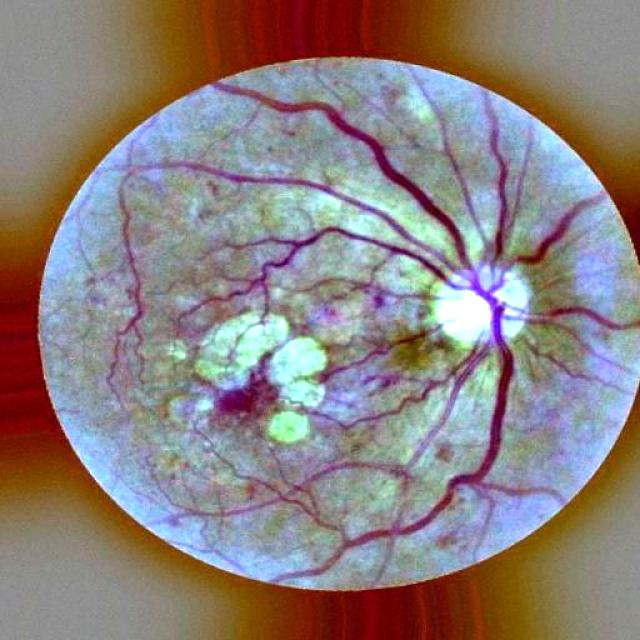Macula: (216, 382, 260, 414)
Nerves: (140, 81, 639, 546)
Optic Disk: (429, 264, 529, 346)
